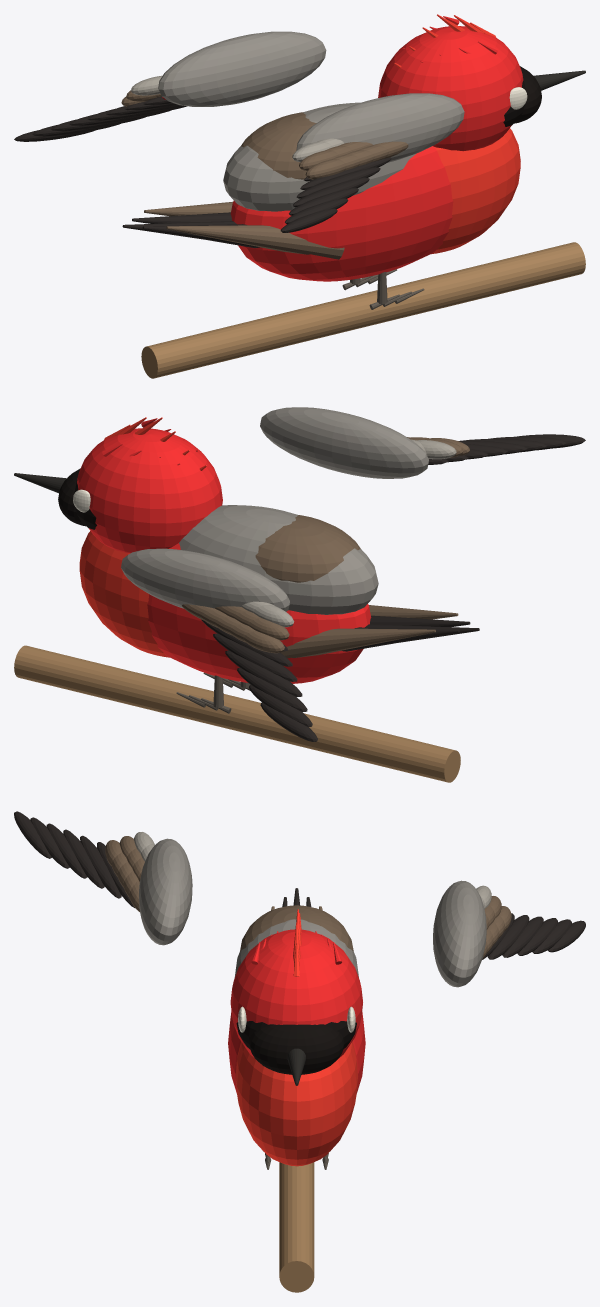
Rendered from pechirrojo.glb.
3 renders of one model, top to bottom at view 1: azimuth 30°, elevation 25°; view 2: azimuth 150°, elevation 25°; view 3: azimuth 270°, elevation 25°, orthographic. The views are drawn at different scales.
Visible parts, largest first — view 1: Rama, Cuerpo_rojo, Cabeza, Ala_superior, Ala_superior.001, Pecho_rojo, Dorso_gris, Dorso_marron, Pluma_cola_00, Pluma_cola_04, Pluma_cola_03, Mascara_frontal (+10 smaller); view 2: Rama, Cabeza, Dorso_gris, Ala_superior.001, Cuerpo_rojo, Ala_superior, Pecho_rojo, Dorso_marron, Pluma_cola_04, Pluma_primaria.003, Pluma_primaria.004, Pluma_cola_00 (+13 smaller); view 3: Pecho_rojo, Cabeza, Ala_superior.001, Ala_superior, Rama, Mascara_frontal, Dorso_marron, Dorso_gris, Cuerpo_rojo, Pluma_primaria.011, Mascara_negra, Pluma_primaria.012 (+3 smaller).
Part boxes in pixels (x1,y1,x2,y2): Rama: (141,242,585,378); Cuerpo_rojo: (230,146,453,281); Cabeza: (378,26,523,151); Ala_superior: (158,31,326,106); Ala_superior.001: (296,93,464,162); Pecho_rojo: (431,128,520,254); Dorso_gris: (223,102,415,211); Dorso_marron: (241,112,316,179); Pluma_cola_00: (166,225,344,259); Pluma_cola_04: (144,201,232,216); Pluma_cola_03: (132,212,231,223); Mascara_frontal: (514,66,541,123); Rama: (14,645,460,782); Cabeza: (77,428,222,553); Dorso_gris: (179,505,378,614); Ala_superior.001: (260,407,428,478); Cuerpo_rojo: (147,543,371,683); Ala_superior: (121,548,289,611); Pecho_rojo: (79,531,169,657); Dorso_marron: (255,515,360,582); Pluma_cola_04: (280,628,435,658); Pluma_primaria.003: (213,633,297,681); Pluma_primaria.004: (225,650,302,696); Pluma_cola_00: (368,605,458,619); Pecho_rojo: (235,1041,357,1166); Cabeza: (230,929,362,1057); Ala_superior.001: (139,838,192,945); Ala_superior: (433,880,486,987); Rama: (279,1162,314,1292); Mascara_frontal: (249,1024,344,1074); Dorso_marron: (240,905,353,951); Dorso_gris: (234,919,358,977); Cuerpo_rojo: (228,1011,365,1093); Pluma_primaria.011: (80,835,121,898); Mascara_negra: (236,1021,356,1049); Pluma_primaria.012: (63,829,104,888).
Size of the model in its own units: 4.54 by 2.74 by 4.57.
